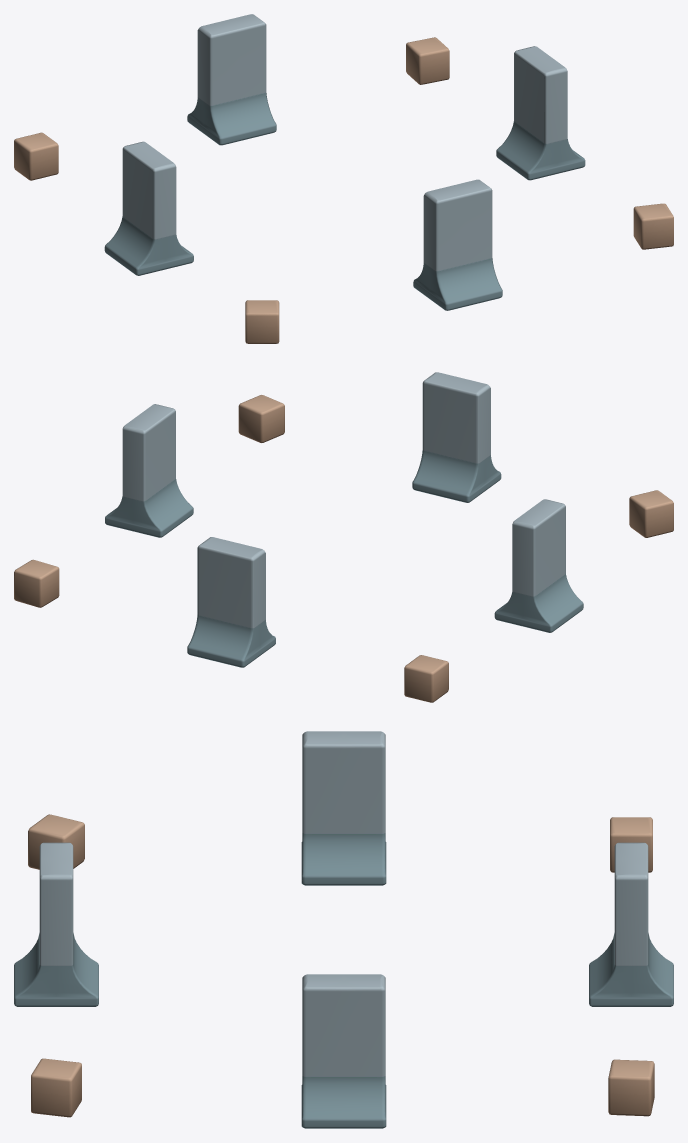
Rendered from Props.fbx.
The picture shows the model from 3 angles, top to bottom: view 1: azimuth 30°, elevation 25°; view 2: azimuth 150°, elevation 25°; view 3: azimuth 270°, elevation 25°; orthographic projection. The views are drawn at different scales.
Parts seen in each view (by area): view 1: 曲面单元 (×4), Box1-5 (2), Box1-5 (3), Box1-5 (1), Box1-5; view 2: 曲面单元 (×4), Box1-5 (1), Box1-5 (3), Box1-5 (2), Box1-5; view 3: 曲面单元 (×4), Box1-5 (1), Box1-5 (3), Box1-5, Box1-5 (2).
Part boxes in pixels (bbox=[...]): 曲面单元 (×4): bbox=[104, 14, 585, 310]; Box1-5 (2): bbox=[14, 132, 58, 180]; Box1-5 (3): bbox=[406, 37, 449, 84]; Box1-5 (1): bbox=[633, 203, 673, 249]; Box1-5: bbox=[245, 300, 279, 343]; 曲面单元 (×4): bbox=[105, 372, 583, 667]; Box1-5 (1): bbox=[238, 395, 284, 442]; Box1-5 (3): bbox=[14, 559, 59, 607]; Box1-5 (2): bbox=[404, 655, 448, 702]; Box1-5: bbox=[629, 490, 673, 537]; 曲面单元 (×4): bbox=[14, 731, 673, 1128]; Box1-5 (1): bbox=[31, 1058, 81, 1117]; Box1-5 (3): bbox=[608, 1059, 654, 1116]; Box1-5: bbox=[28, 814, 84, 869]; Box1-5 (2): bbox=[610, 817, 652, 872].
Size of the model in its own units: 22.96 by 5.02 by 22.96.
Materials: 2 (2 with a texture image).
